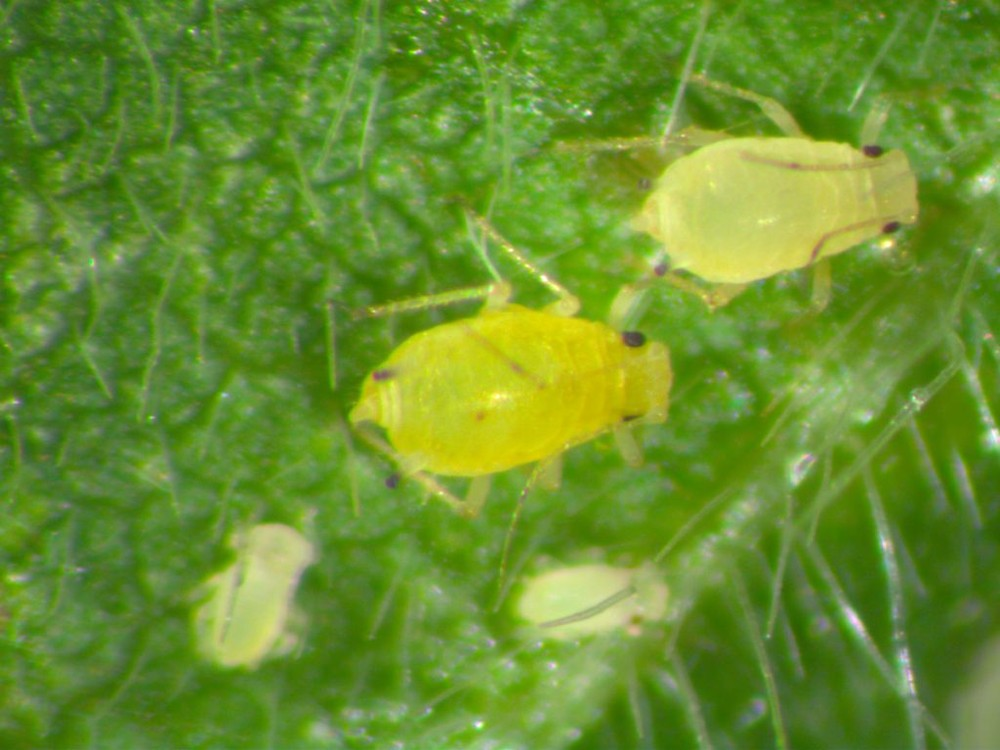Pulgon: (322, 225, 698, 548), (595, 61, 966, 323), (170, 508, 350, 687)
